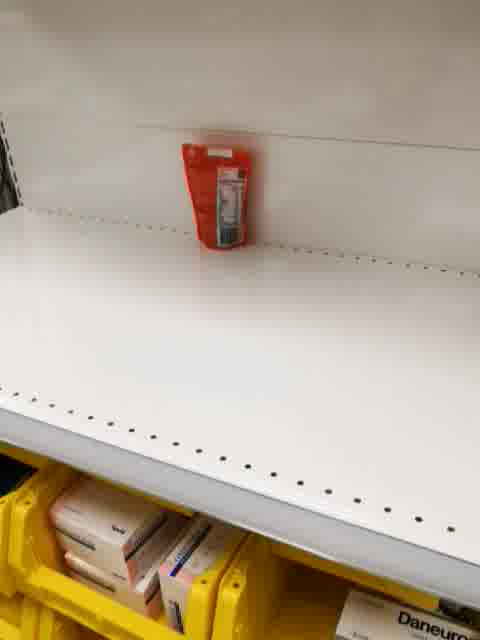whitechia: (179, 142, 255, 254)
